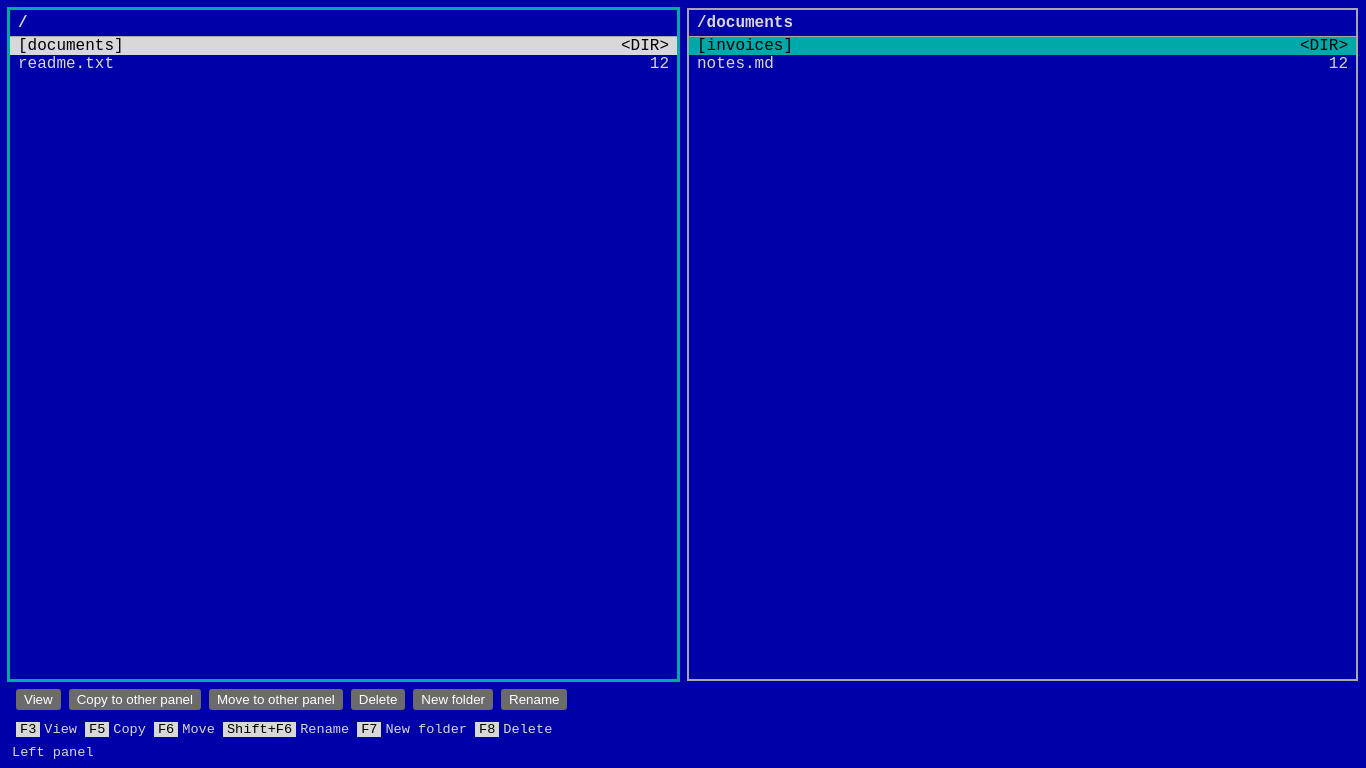
Scenario: §REQ:TWO-PNL-NVGT-OOX-030 opening a subfolder in the active panel › §REQ:TWO-PNL-NVGT-OOX-030 a subfolder can be opened from the keyboard in the active panel
Click the option "[invoices] <DIR>": (745, 46) 689,37 -> 1356,55
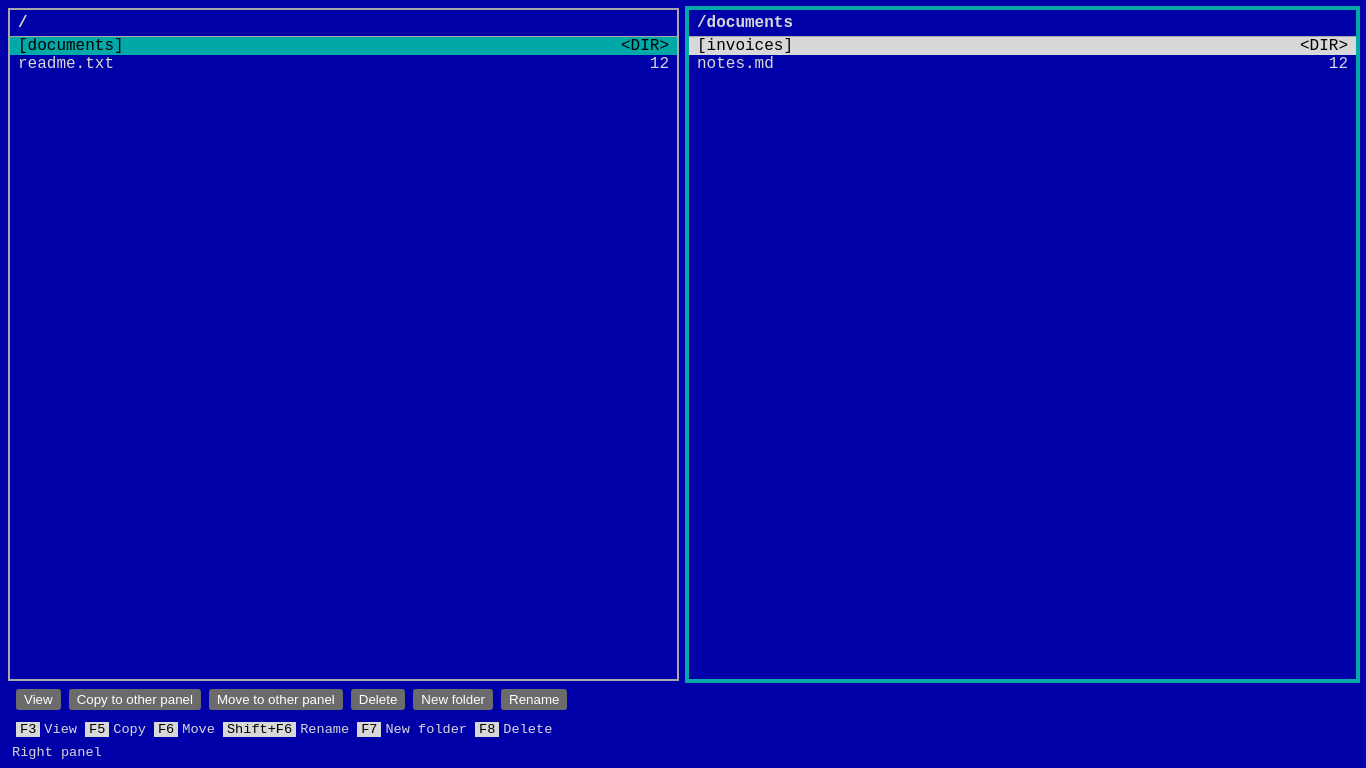
Expected: the element named "right panel" is marked as current, 687,8 -> 1358,681
Press Enter
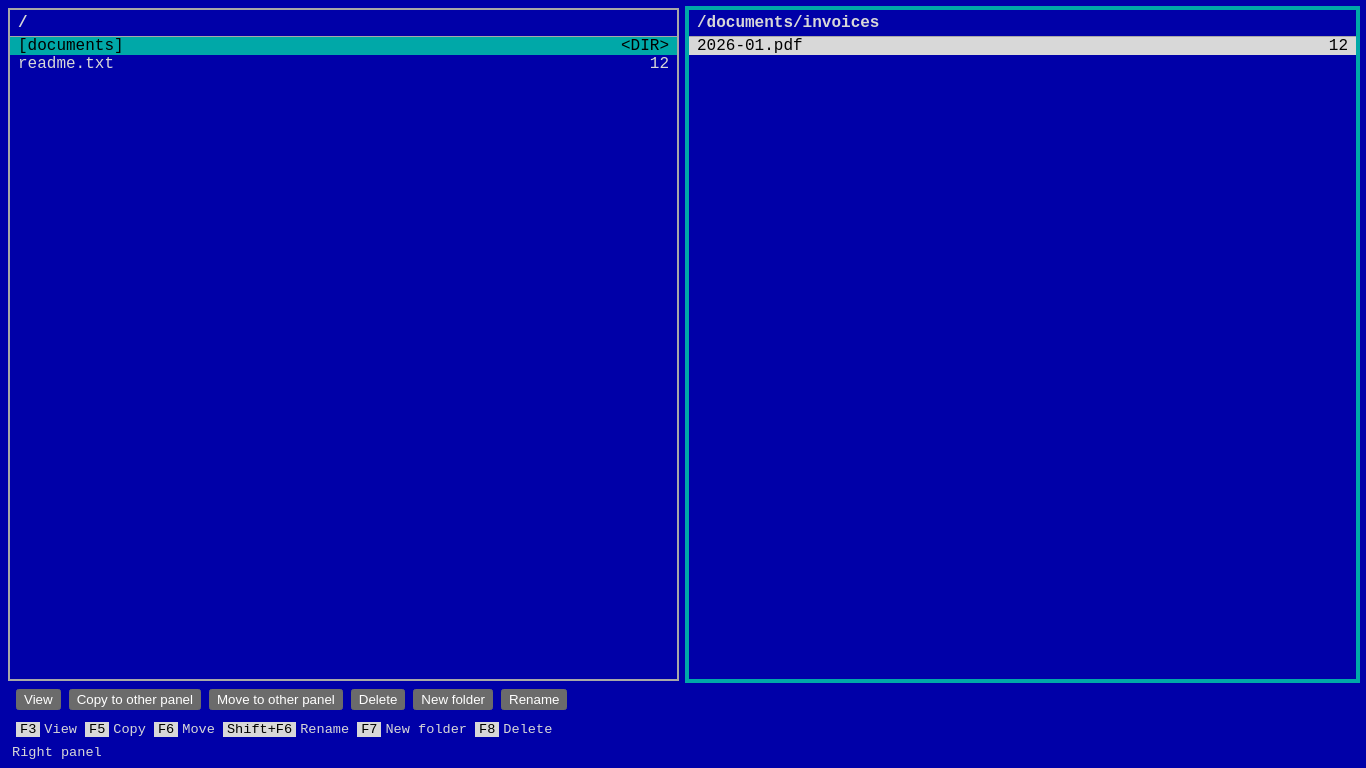
Expected: the text with test id "panel-path" reads "/", 18,14 -> 28,32
Expected: the option "2026-01.pdf 12" is shown, 689,37 -> 1356,55
Expected: the text with test id "panel-path" reads "/documents/invoices", 697,14 -> 879,32
